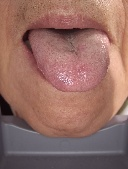tongue: (25, 36, 112, 94)
